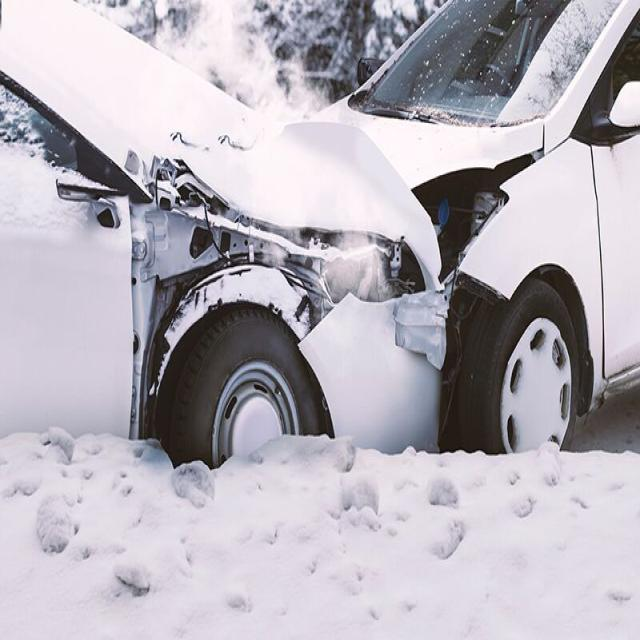Accident: (3, 0, 639, 500)
